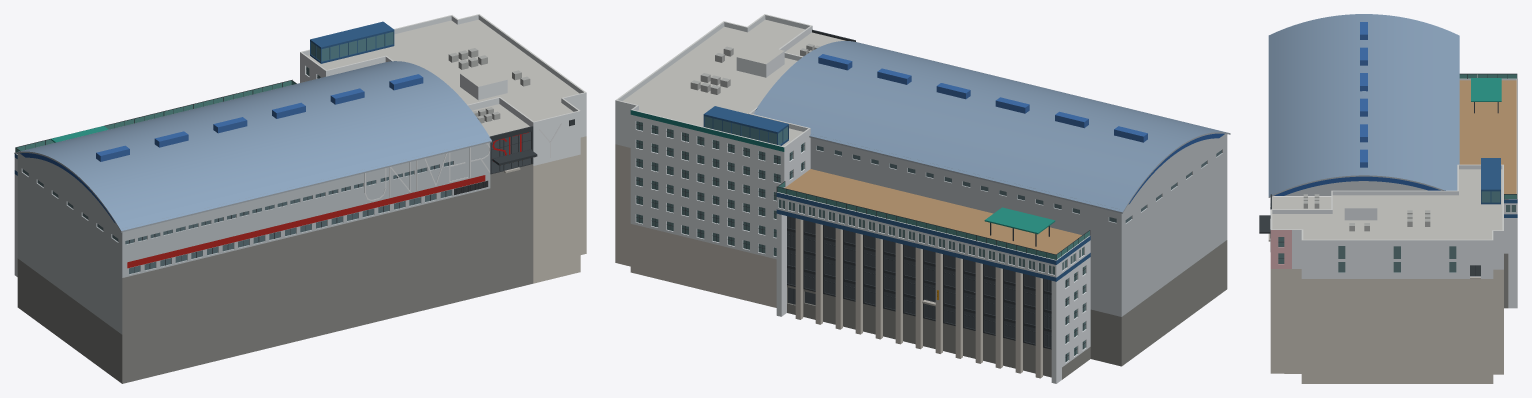
3 views of the same model, side by side, from view 1: azimuth 30°, elevation 25°; view 2: azimuth 150°, elevation 25°; view 3: azimuth 270°, elevation 25° (orthographic). The views are drawn at different scales.
Parts seen in each view (by area): view 1: s07__plinthStone, s07__vaultRoof, s07__wallPanel, s07__roof, s07__stone, s07__wallWhite, s07__glass, s07__redBand, s07__vent, s07__frame, s07__penthouseFrame, s07__railGlass (+6 smaller); view 2: s07__vaultRoof, s07__wallWhite, s07__wallPanel, s07__stone, s07__plinthStone, s07__roof, s07__glassCurtain, s07__frame, s07__deck, s07__glassPunched, s07__blueBand, s07__vent (+10 smaller); view 3: s07__vaultRoof, s07__stone, s07__wallWhite, s07__roof, s07__deck, s07__coping, s07__wallPanel, s07__vent, s07__glassPunched, s07__vaultBand, s07__penthouseFrame, s07__pinkWall (+7 smaller).
Boxes of the visible parts, <box> form: s07__plinthStone: <box>17,164,533,383</box>; s07__vaultRoof: <box>17,61,491,230</box>; s07__wallPanel: <box>17,142,490,334</box>; s07__roof: <box>307,19,579,136</box>; s07__stone: <box>533,136,586,283</box>; s07__wallWhite: <box>14,15,586,276</box>; s07__glass: <box>22,161,453,274</box>; s07__redBand: <box>127,175,485,268</box>; s07__vent: <box>96,74,423,161</box>; s07__frame: <box>15,68,574,272</box>; s07__penthouseFrame: <box>310,21,394,63</box>; s07__railGlass: <box>15,80,295,153</box>; s07__vaultRoof: <box>754,41,1228,212</box>; s07__wallWhite: <box>615,15,1090,383</box>; s07__wallPanel: <box>810,134,1227,316</box>; s07__stone: <box>615,144,1042,378</box>; s07__plinthStone: <box>787,240,1227,379</box>; s07__roof: <box>623,19,845,146</box>; s07__glassCurtain: <box>787,216,1051,347</box>; s07__frame: <box>636,29,1090,361</box>; s07__deck: <box>784,169,1081,254</box>; s07__glassPunched: <box>636,121,1085,362</box>; s07__blueBand: <box>776,192,1090,281</box>; s07__vent: <box>818,54,1147,142</box>; s07__vaultRoof: <box>1268,14,1459,196</box>; s07__stone: <box>1270,269,1503,383</box>; s07__wallWhite: <box>1272,79,1517,308</box>; s07__roof: <box>1272,169,1502,239</box>; s07__deck: <box>1459,80,1516,199</box>; s07__coping: <box>1270,78,1517,240</box>; s07__wallPanel: <box>1284,181,1427,195</box>; s07__vent: <box>1360,22,1367,167</box>; s07__glassPunched: <box>1278,205,1515,272</box>; s07__vaultBand: <box>1274,176,1445,195</box>; s07__penthouseFrame: <box>1481,158,1500,204</box>; s07__pinkWall: <box>1270,230,1291,268</box>.
Size of the model in its own units: 99.45 by 36.05 by 51.36.
